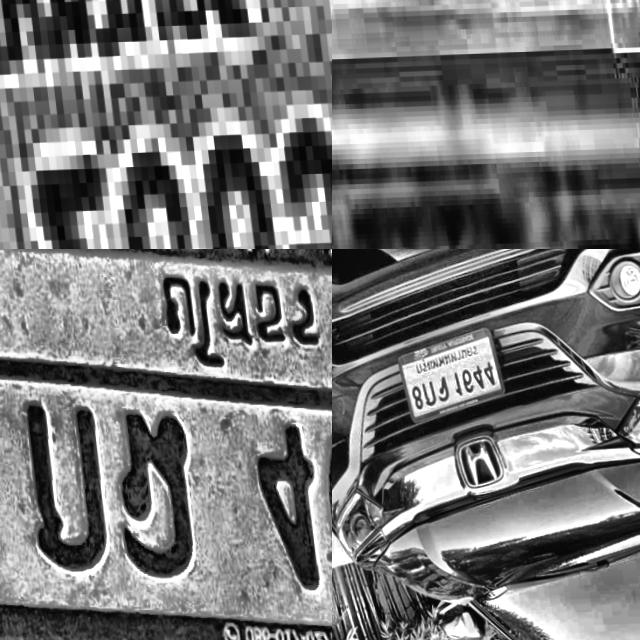license-plate: (0, 249, 332, 640), (0, 0, 332, 249), (332, 158, 640, 249), (384, 321, 504, 430)
